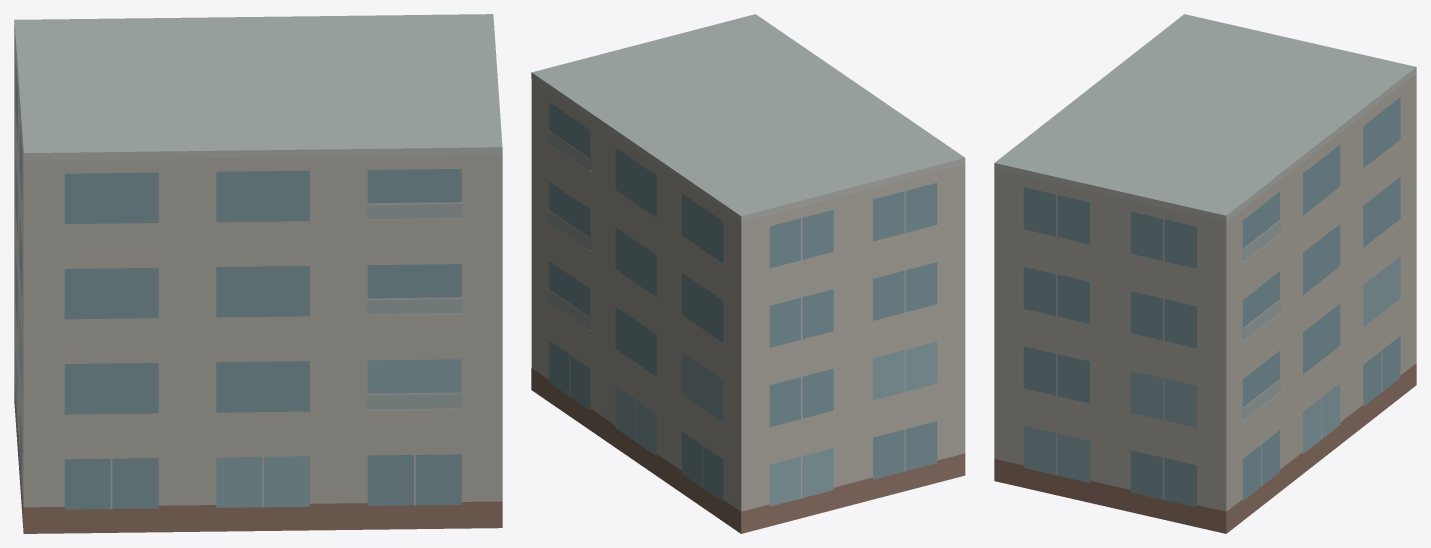
Rendered from residential-dc112d13-b11f-4718-b8ed-8b36fddb68a0.glb.
3 renders of one model, left to right at view 1: azimuth 30°, elevation 25°; view 2: azimuth 150°, elevation 25°; view 3: azimuth 270°, elevation 25°, orthographic. The views are drawn at different scales.
Visible parts, largest first — view 1: residential-dc112d13-b11f-4718-b8ed-8b36fddb68a0.tmp; view 2: residential-dc112d13-b11f-4718-b8ed-8b36fddb68a0.tmp; view 3: residential-dc112d13-b11f-4718-b8ed-8b36fddb68a0.tmp.
Boxes of the visible parts, x1,y1,x2,y2 form: residential-dc112d13-b11f-4718-b8ed-8b36fddb68a0.tmp: [14, 14, 502, 533]; residential-dc112d13-b11f-4718-b8ed-8b36fddb68a0.tmp: [531, 14, 965, 533]; residential-dc112d13-b11f-4718-b8ed-8b36fddb68a0.tmp: [994, 14, 1416, 533].
Bounding box in the file's own units: 16.6 × 12.2 × 14.68.
